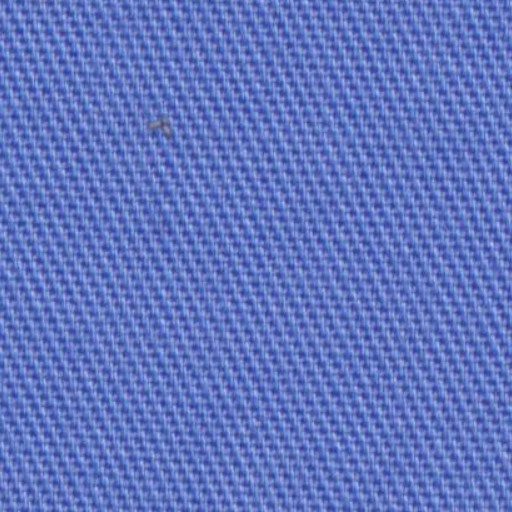WuZi: (134, 103, 188, 146)
